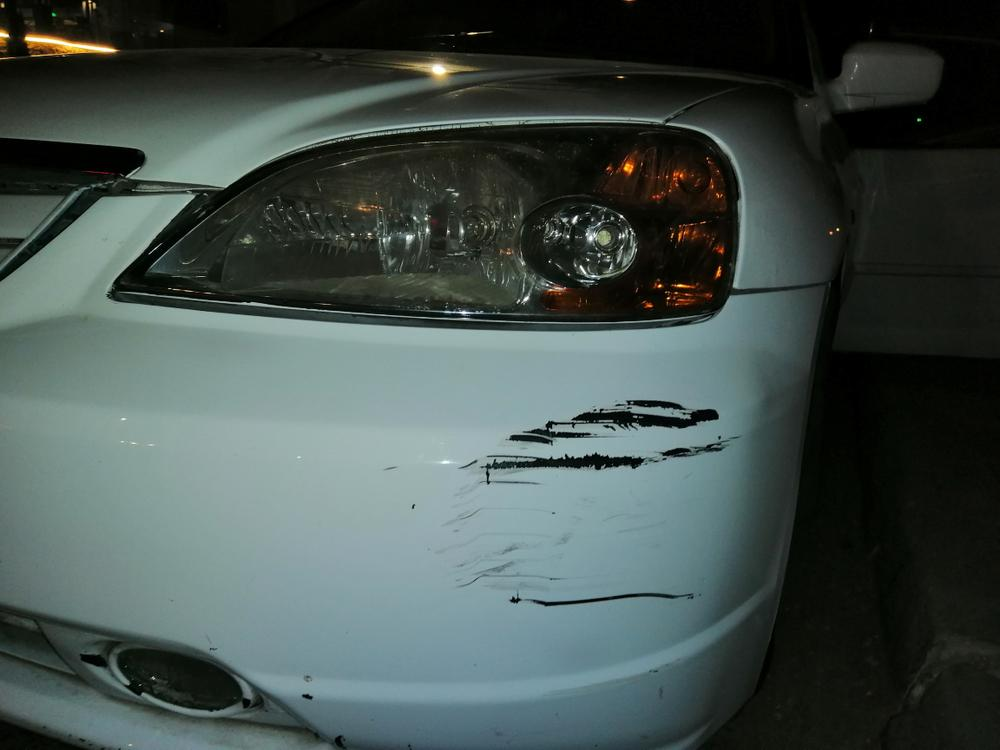scratch: (437, 395, 749, 615)
